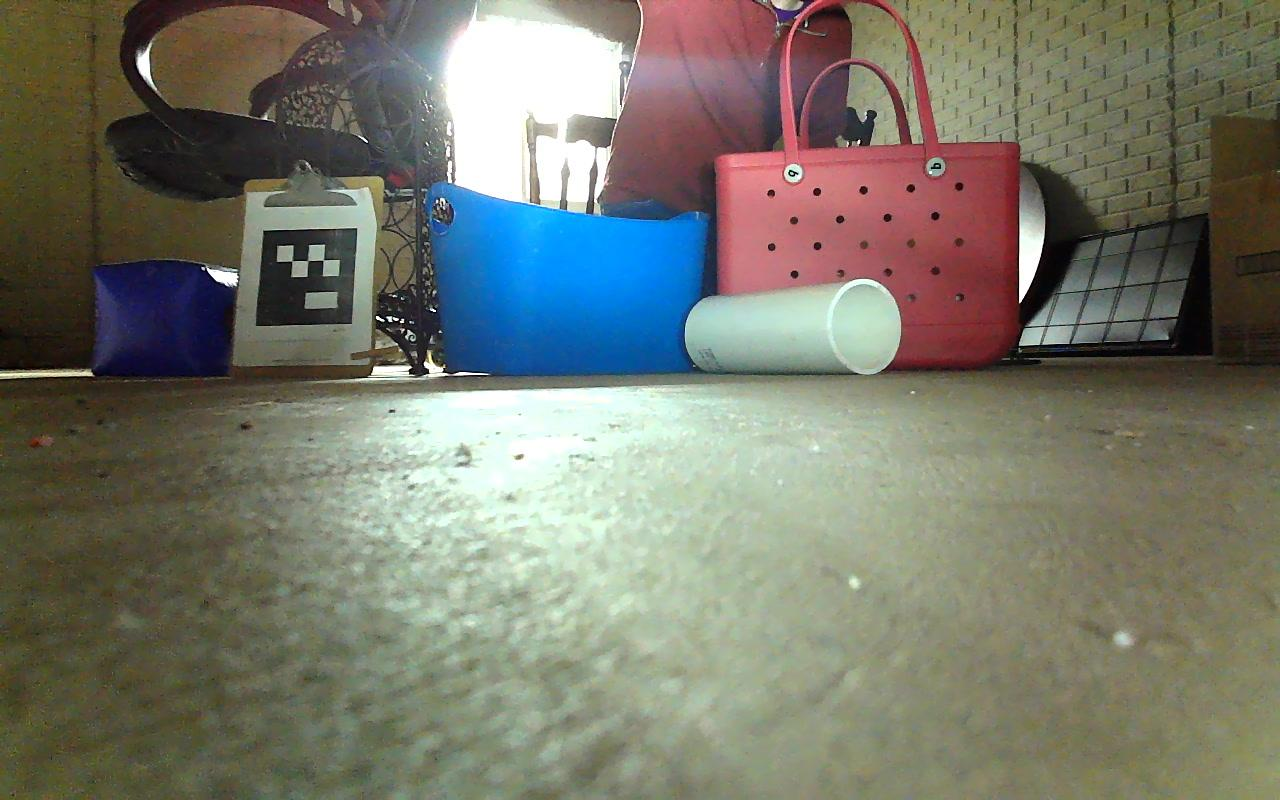coral: (685, 278, 902, 375)
